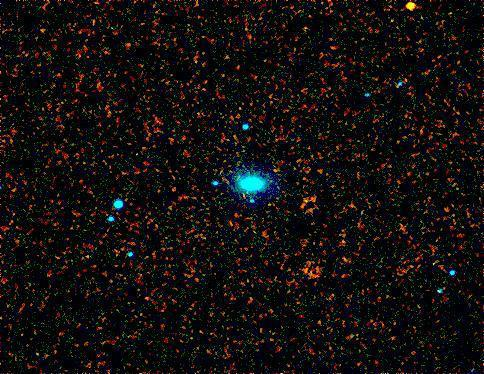star: (397, 0, 427, 21)
